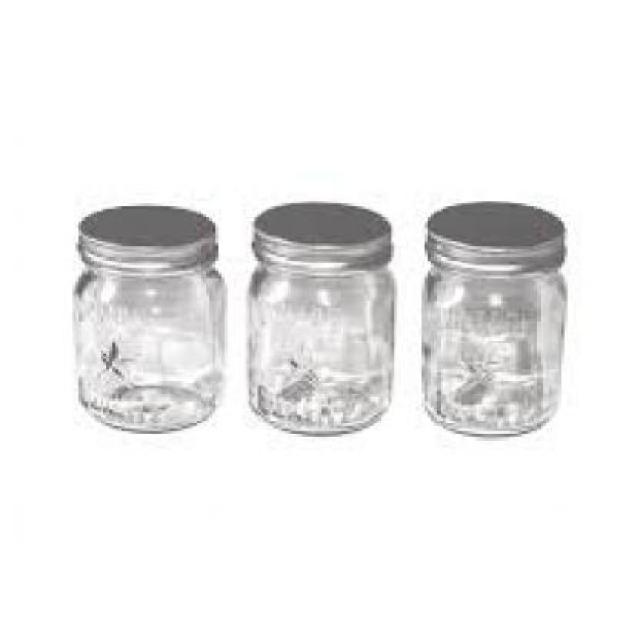kaca: (69, 260, 222, 431), (422, 254, 562, 437), (249, 255, 388, 432)
